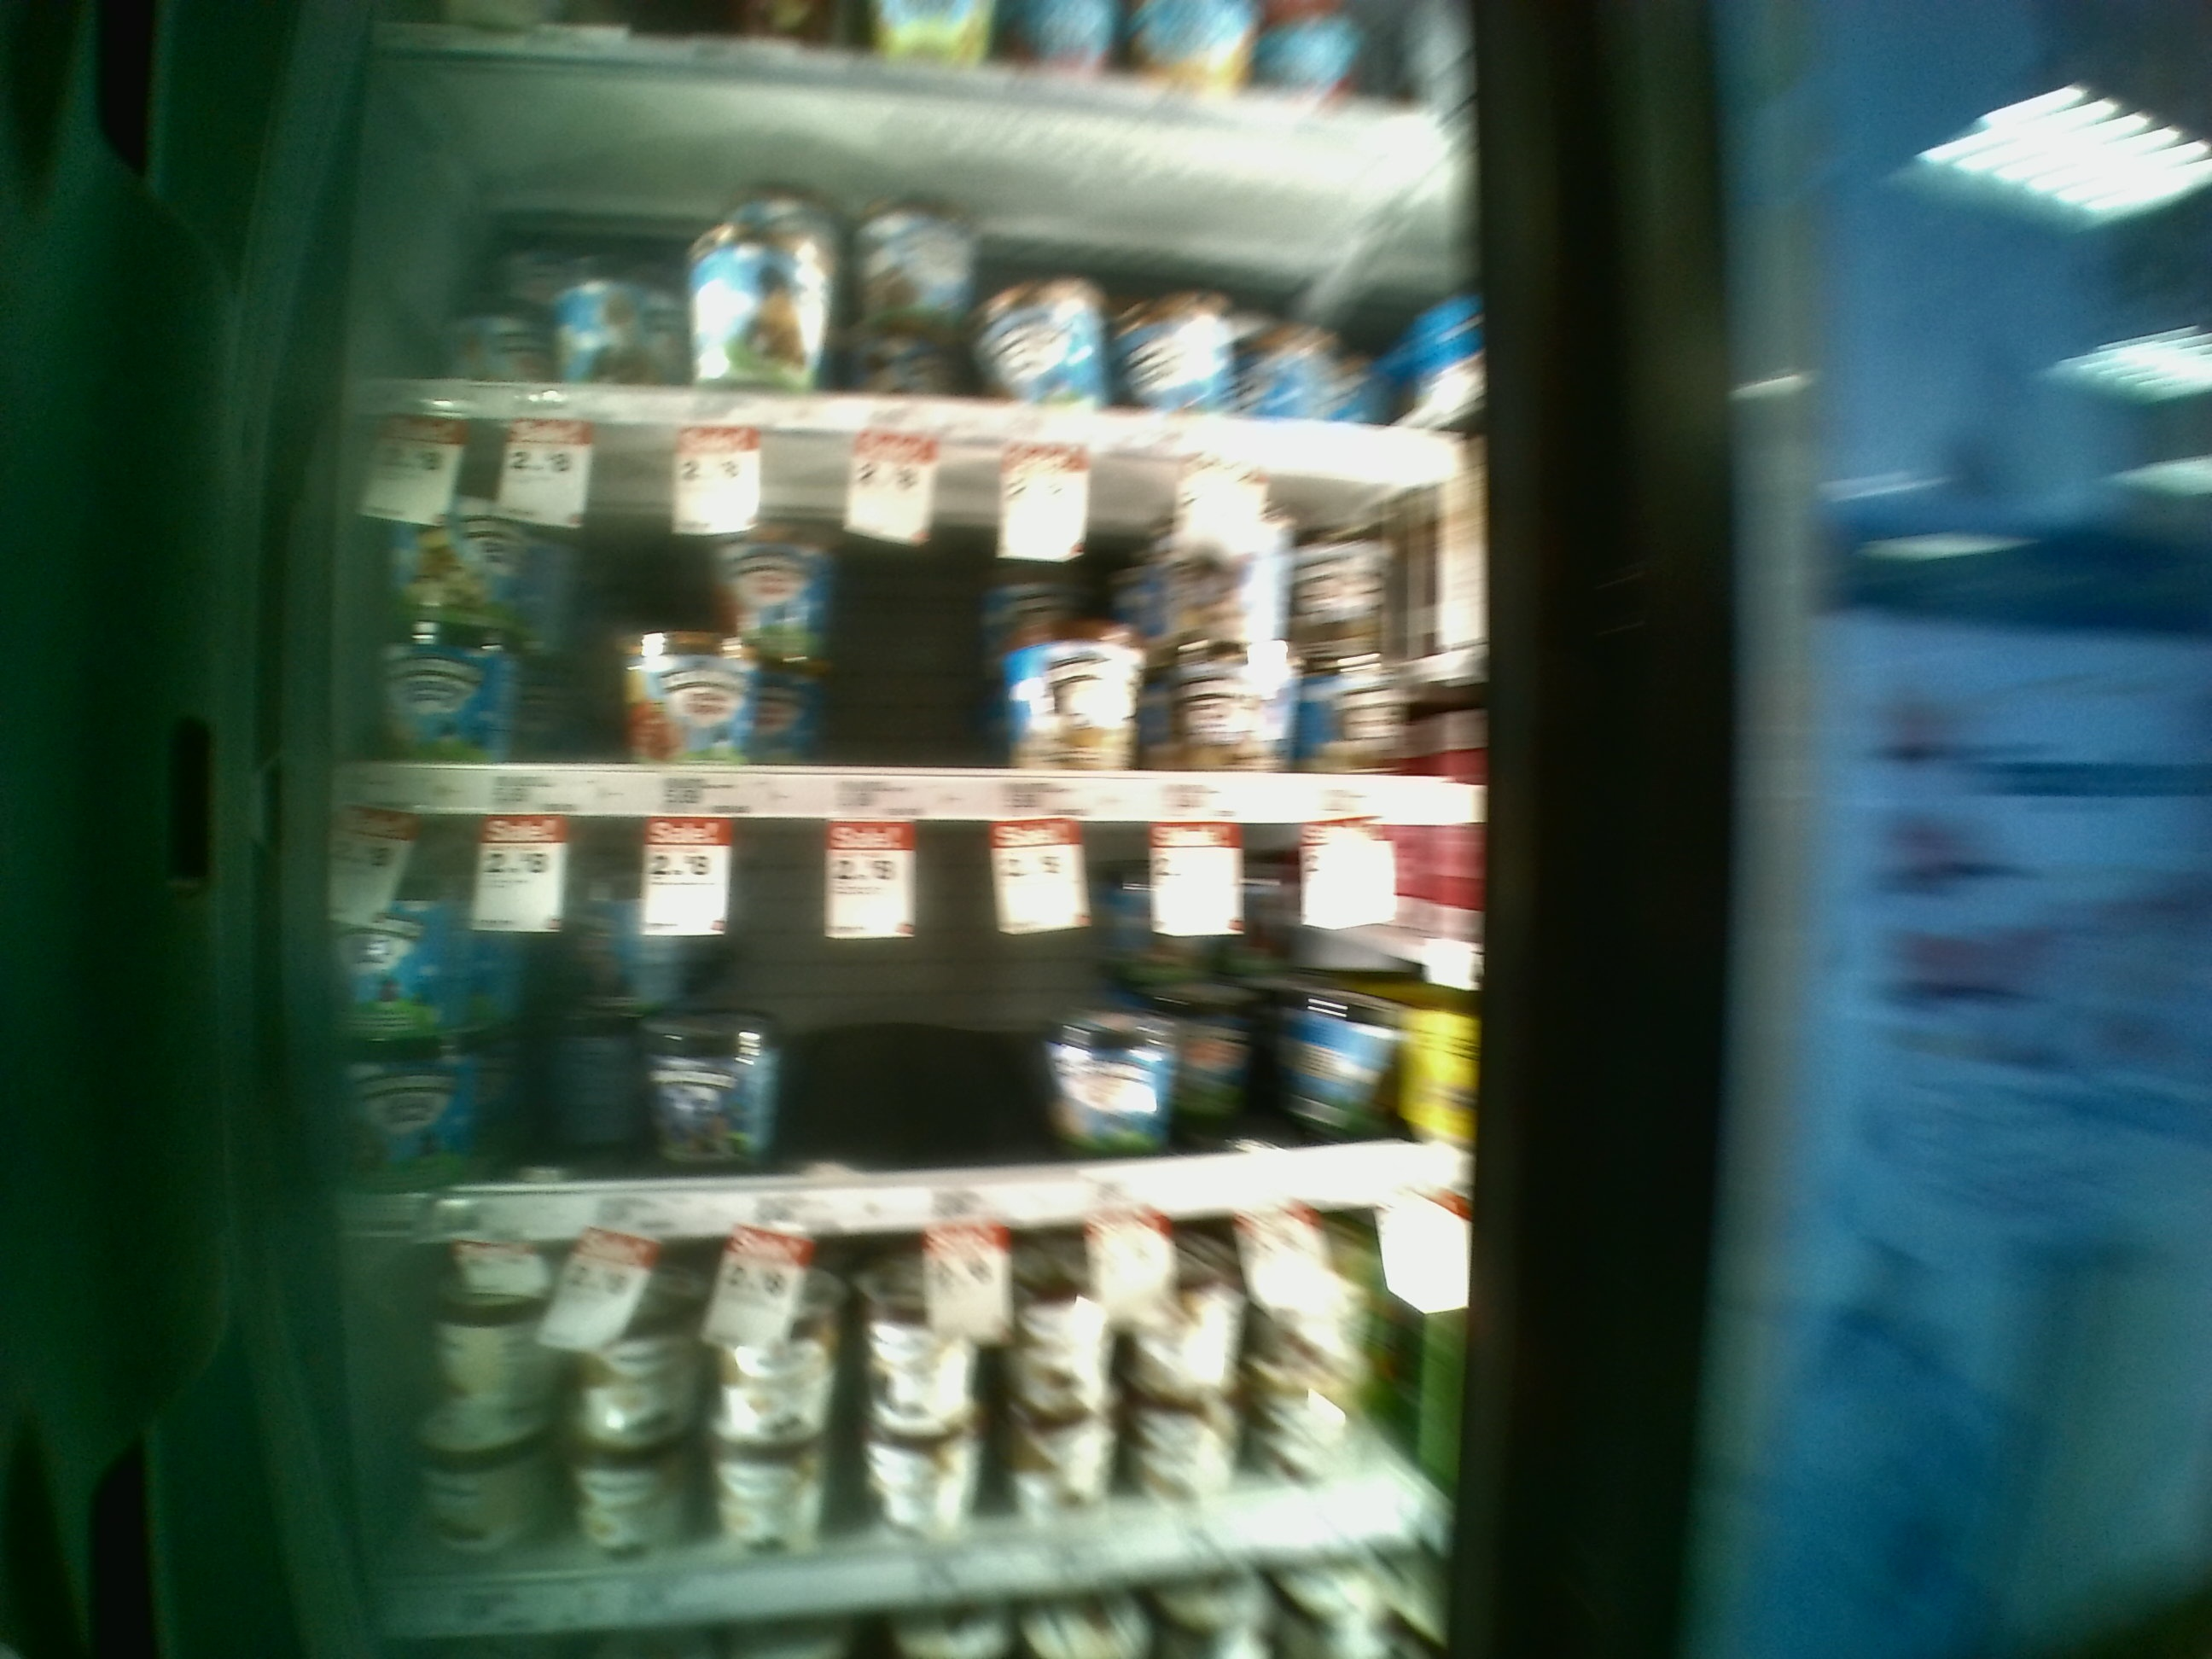shelf: (334, 408, 1503, 823), (331, 824, 1470, 1241)
